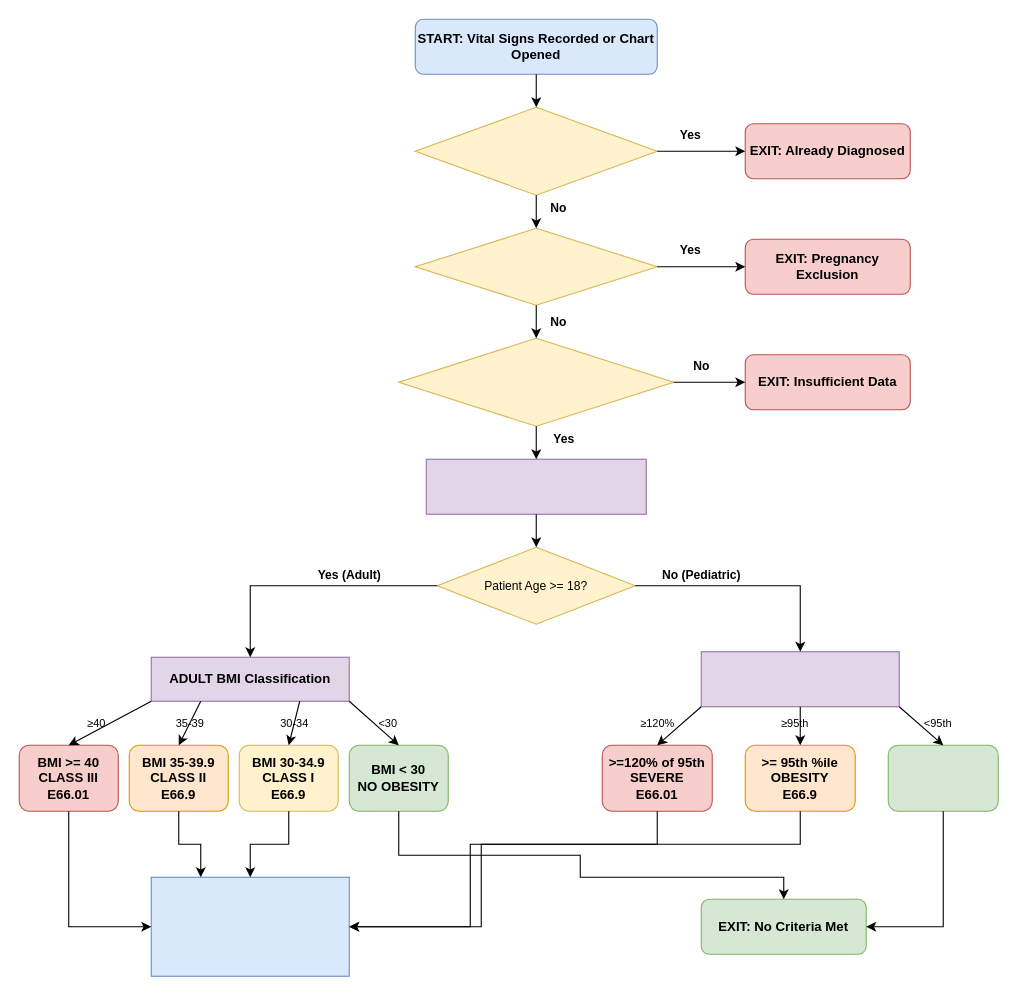
Some shapes in this 1018 by 996 pixel diagram are drawn without their labels. Each missing label, with the centre of its shape:
"< 95th %ile NO OBESITY" goes at pixel 942 777.
"CALCULATE BMI BMI = Weight(kg) / Height(m)²" goes at pixel 535 486.
"Height AND Weight available (within 12 months)?" goes at pixel 536 381.
"Obesity already on Problem List?" goes at pixel 535 150.
"Patient Currently Pregnant?" goes at pixel 535 266.
"PEDIATRIC BMI Percentile (CDC Growth Charts)" goes at pixel 799 679.
"RETURN Alert: • Classification • BMI Value • ICD-10 / SNOMED • Suggested Actions" goes at pixel 249 926.
